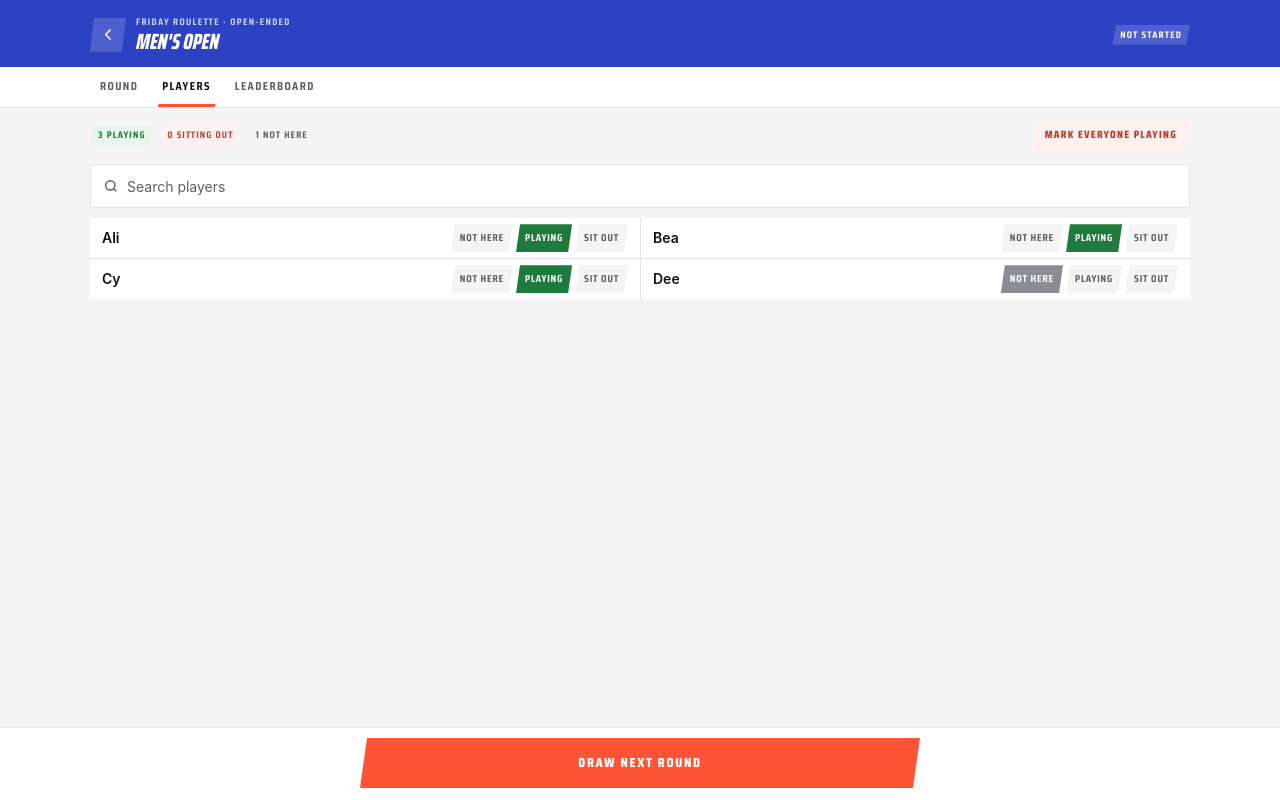
it: Roulette draws the next round, and an open-ended stage has no round count
Expected: the text "Friday Roulette · Open-ended" is shown, [136,14,291,29]
Expected: the button named "Back to Roulette" is shown, [86,13,130,57]
Step 1. Click the tab "Round" → {"x": 119, "y": 87}, box [90,67,148,107]
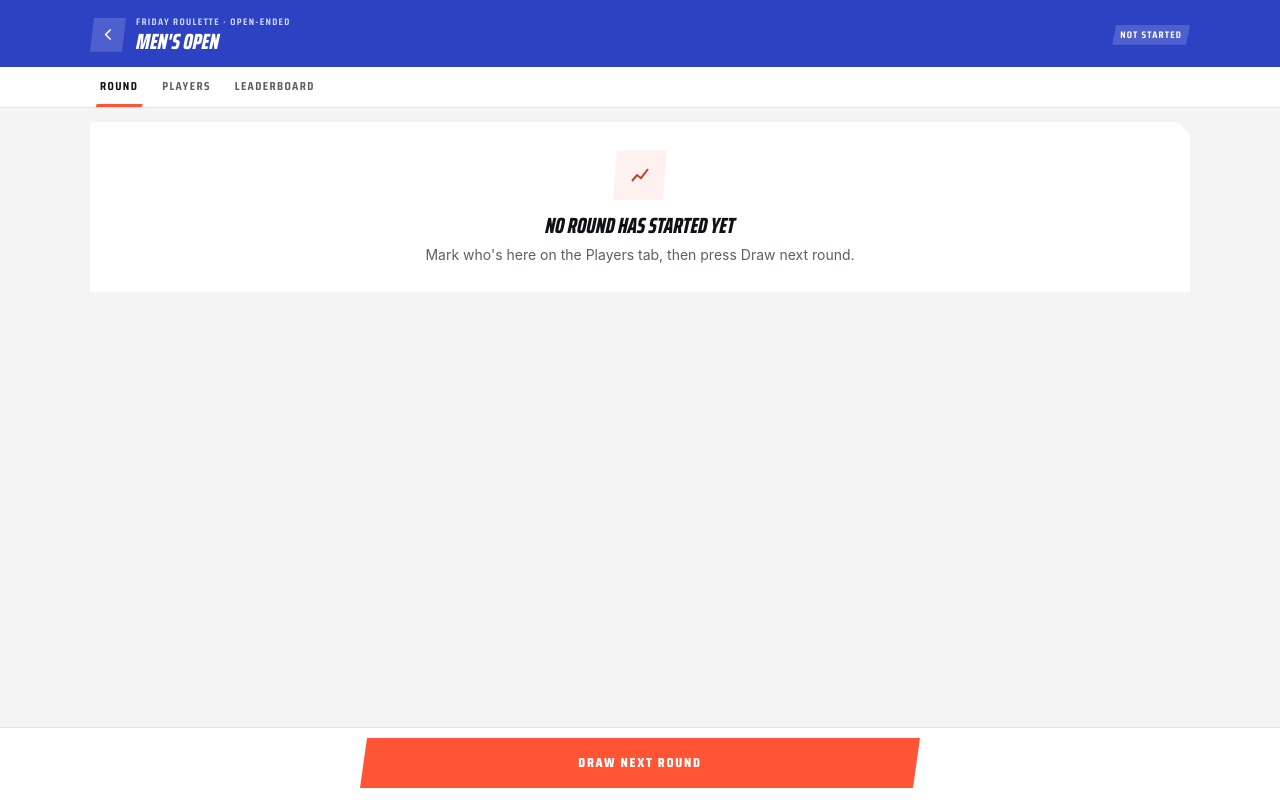
Now the text "then press Draw next round" is shown, box [426,246,855,263]
Step 2. Click the button "Draw next round" → {"x": 640, "y": 763}, box [360,738,920,788]
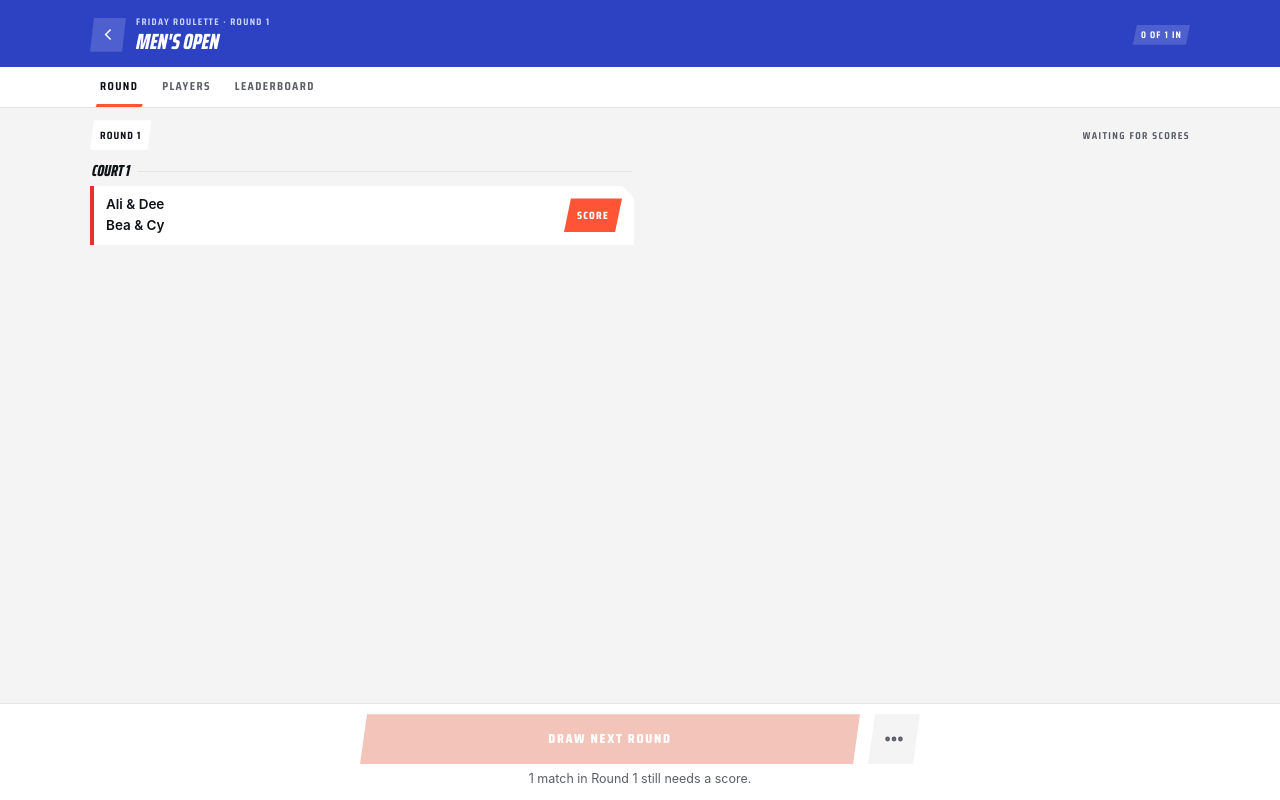
Now the text "Friday Roulette · Round 1" is shown, box [136,14,270,29]
Now the heading "Court 1" is shown, box [92,158,130,183]
